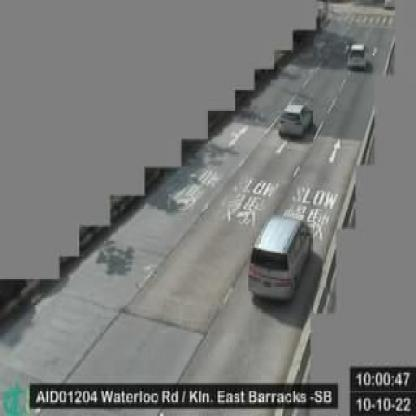Car: (248, 216, 312, 300), (280, 98, 314, 137), (348, 43, 368, 72)
